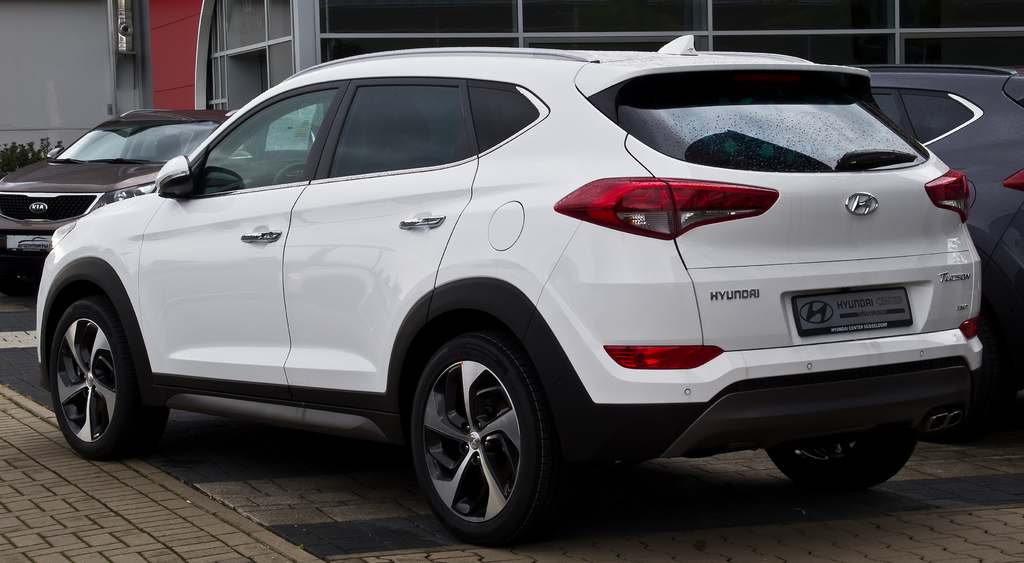mobil: (63, 64, 964, 481)
